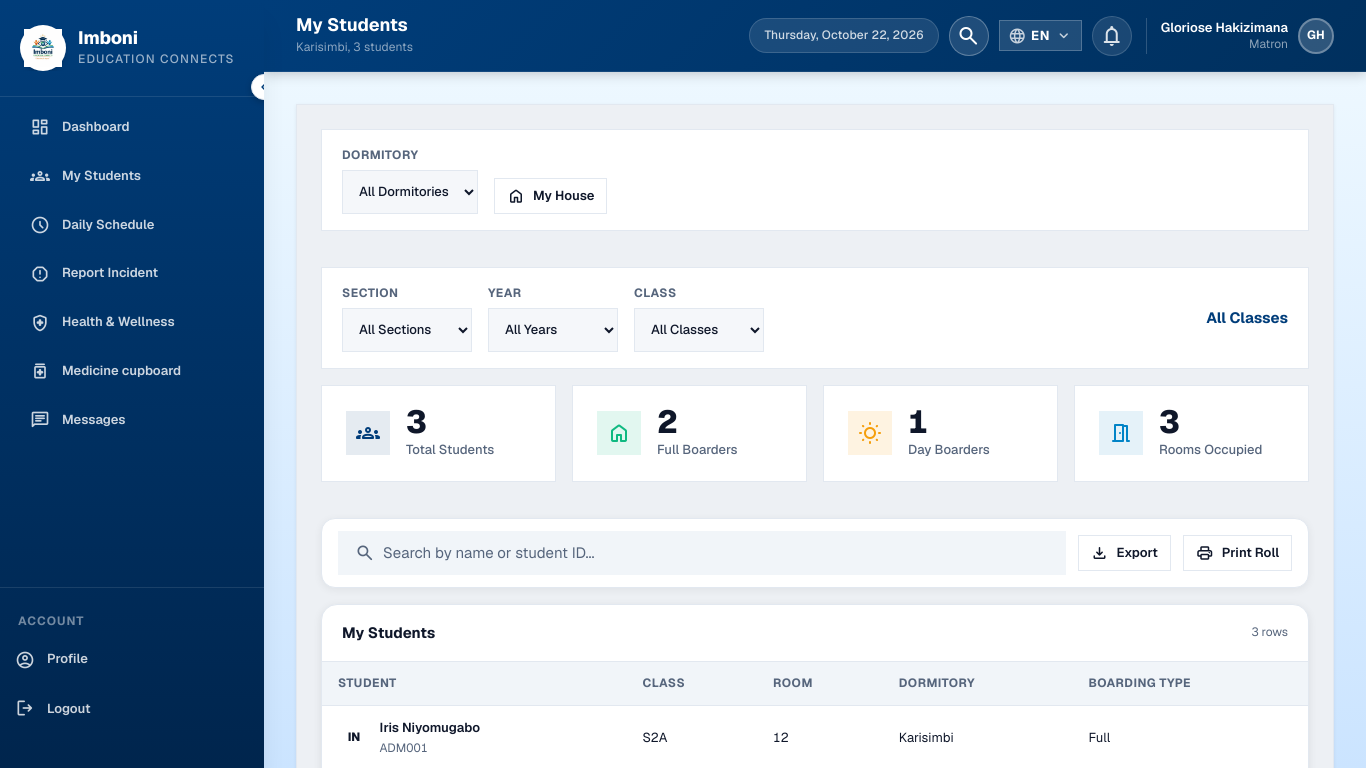
Test case: MatronStudents › opens the student when their row is clicked
This screenshot has width=1366, height=768.
Click the button "Iris Niyomugabo" at (430, 728), box [380,718,480,739]
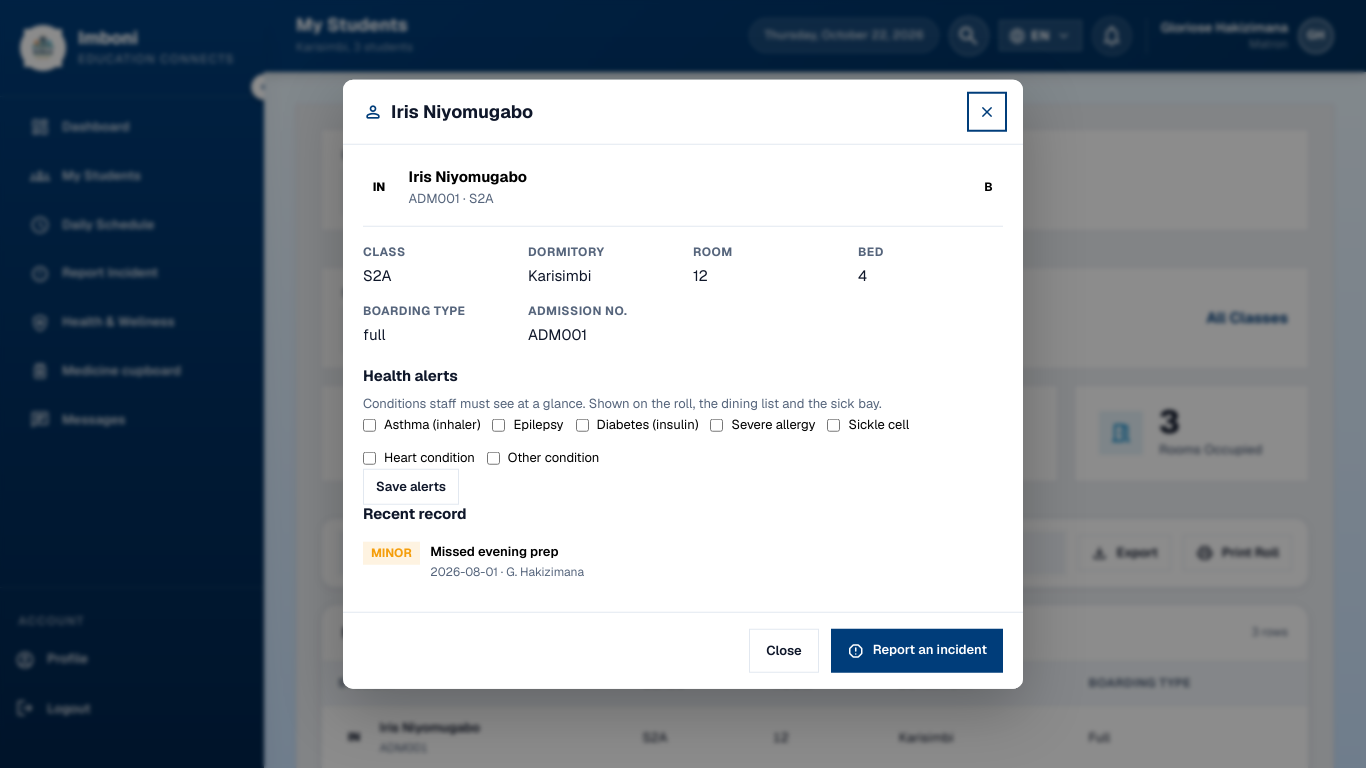
expect the heading "Recent record" is shown: met, box [363,504,466,522]
expect the text "Missed evening prep" is shown: met, box [430,543,558,560]
